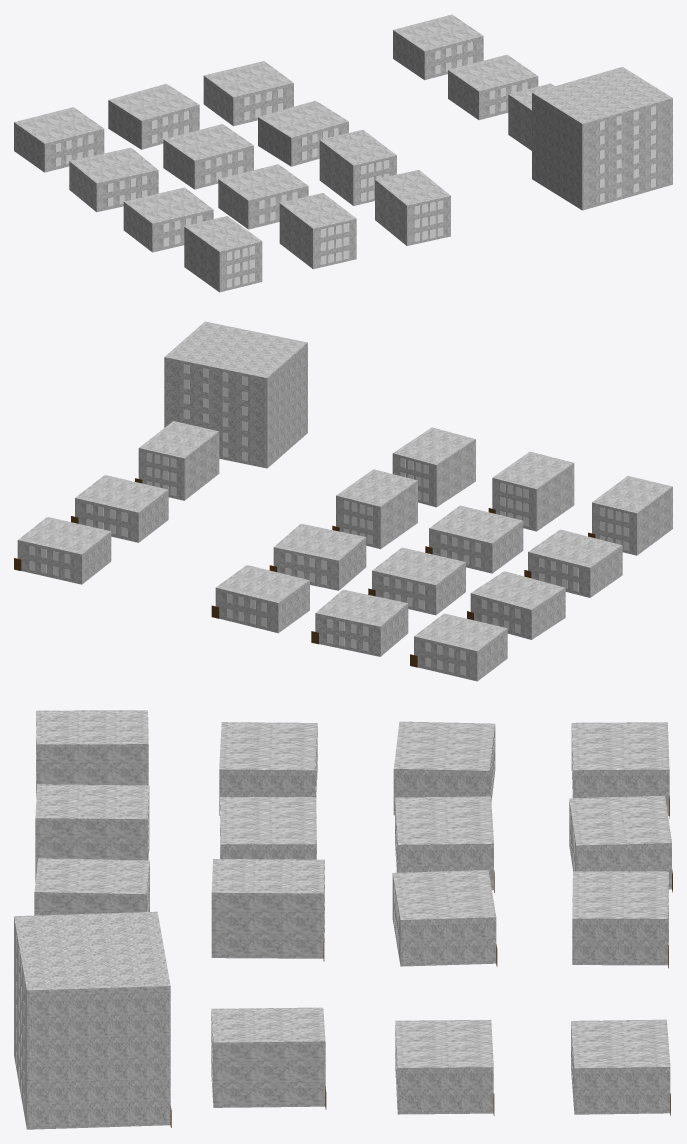
File: bld_mlmwdysd_z7aun5c.glb
3 views of the same model, one above another, from view 1: azimuth 30°, elevation 25°; view 2: azimuth 150°, elevation 25°; view 3: azimuth 270°, elevation 25° (orthographic). The views are drawn at different scales.
Parts seen in each view (by area): view 1: building-building-1771108691477-19, building-building-1771108691477-15, building-building-1771108691477-16, building-building-1771108691477-17, building-building-1771108691476-1, building-building-1771108691476-0, building-building-1771108691476-6, building-building-1771108691476-2, building-building-1771108691476-4, building-building-1771108691476-5, building-building-1771108691477-12, building-building-1771108691477-11 (+4 smaller); view 2: building-building-1771108691477-19, building-building-1771108691476-2, building-building-1771108691476-4, building-building-1771108691476-0, building-building-1771108691477-16, building-building-1771108691476-1, building-building-1771108691477-12, building-building-1771108691477-14, building-building-1771108691477-15, building-building-1771108691476-5, building-building-1771108691477-10, building-building-1771108691477-11 (+4 smaller); view 3: building-building-1771108691477-19, building-building-1771108691477-14, building-building-1771108691477-12, building-building-1771108691477-7, building-building-1771108691476-4, building-building-1771108691477-9, building-building-1771108691476-2, building-building-1771108691477-16, building-building-1771108691477-15, building-building-1771108691476-1, building-building-1771108691476-5, building-building-1771108691476-6 (+4 smaller).
Part boxes in pixels (left/top/right/bottom): building-building-1771108691477-19: left=532, top=67, right=672, bottom=210; building-building-1771108691477-15: left=184, top=216, right=262, bottom=292; building-building-1771108691477-16: left=279, top=193, right=356, bottom=269; building-building-1771108691477-17: left=375, top=170, right=450, bottom=245; building-building-1771108691476-1: left=108, top=83, right=199, bottom=149; building-building-1771108691476-0: left=14, top=107, right=104, bottom=172; building-building-1771108691476-6: left=163, top=124, right=253, bottom=189; building-building-1771108691476-2: left=203, top=61, right=293, bottom=126; building-building-1771108691476-4: left=393, top=14, right=483, bottom=80; building-building-1771108691476-5: left=69, top=147, right=158, bottom=212; building-building-1771108691477-12: left=319, top=129, right=396, bottom=205; building-building-1771108691477-11: left=218, top=164, right=308, bottom=229; building-building-1771108691477-19: left=164, top=321, right=307, bottom=468; building-building-1771108691476-2: left=211, top=565, right=309, bottom=633; building-building-1771108691476-4: left=14, top=517, right=111, bottom=584; building-building-1771108691476-0: left=410, top=613, right=507, bottom=681; building-building-1771108691477-16: left=488, top=451, right=574, bottom=531; building-building-1771108691476-1: left=311, top=589, right=408, bottom=656; building-building-1771108691477-12: left=332, top=469, right=417, bottom=549; building-building-1771108691477-14: left=135, top=421, right=219, bottom=500; building-building-1771108691477-15: left=588, top=476, right=672, bottom=555; building-building-1771108691476-5: left=467, top=571, right=565, bottom=639; building-building-1771108691477-10: left=524, top=529, right=622, bottom=597; building-building-1771108691477-11: left=425, top=505, right=523, bottom=573; building-building-1771108691477-19: left=14, top=911, right=171, bottom=1129; building-building-1771108691477-14: left=211, top=1007, right=326, bottom=1109; building-building-1771108691477-12: left=211, top=859, right=324, bottom=961; building-building-1771108691477-7: left=392, top=870, right=497, bottom=966; building-building-1771108691476-4: left=571, top=1019, right=670, bottom=1115; building-building-1771108691477-9: left=395, top=1019, right=494, bottom=1115; building-building-1771108691476-2: left=572, top=871, right=668, bottom=968; building-building-1771108691477-16: left=35, top=784, right=149, bottom=882; building-building-1771108691477-15: left=36, top=710, right=148, bottom=796; building-building-1771108691476-1: left=569, top=795, right=672, bottom=892; building-building-1771108691476-5: left=393, top=721, right=495, bottom=815; building-building-1771108691476-6: left=395, top=796, right=494, bottom=892.
Size of the model in its own units: 107 by 19.23 by 82.32.
80 materials, 16 textured.
